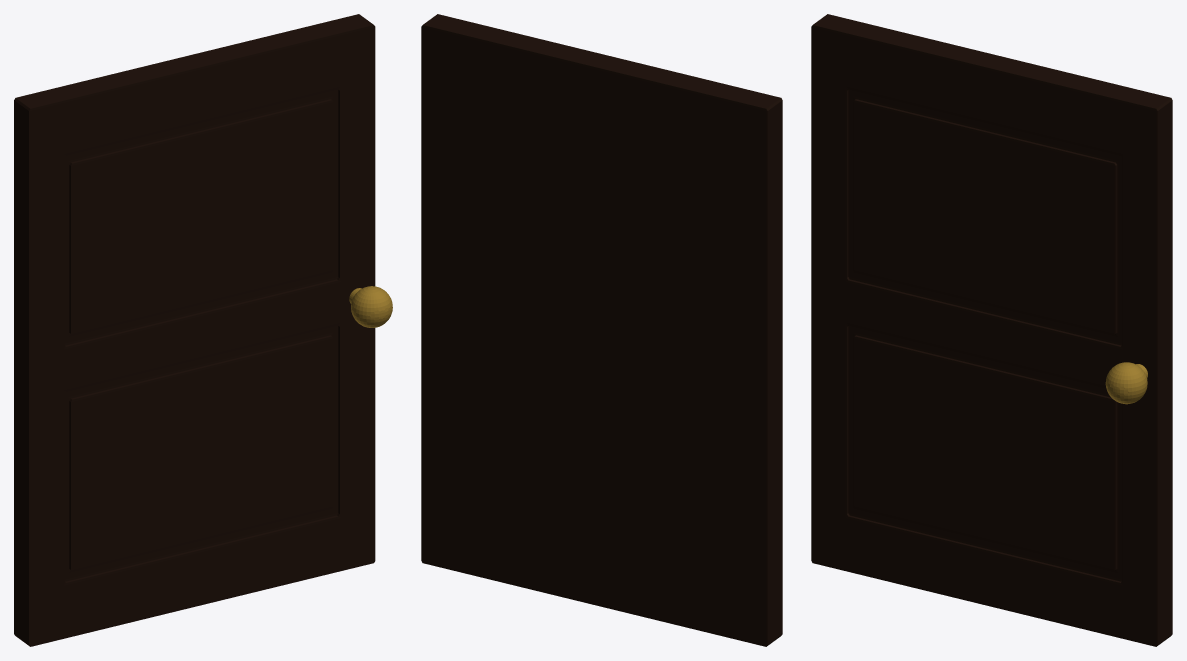
File: door.obj
The picture shows the model from 3 angles, left to right: view 1: azimuth 30°, elevation 25°; view 2: azimuth 150°, elevation 25°; view 3: azimuth 330°, elevation 25°; orthographic projection.
Bounding box in the file's own units: 6.62 × 9.8 × 1.29.
